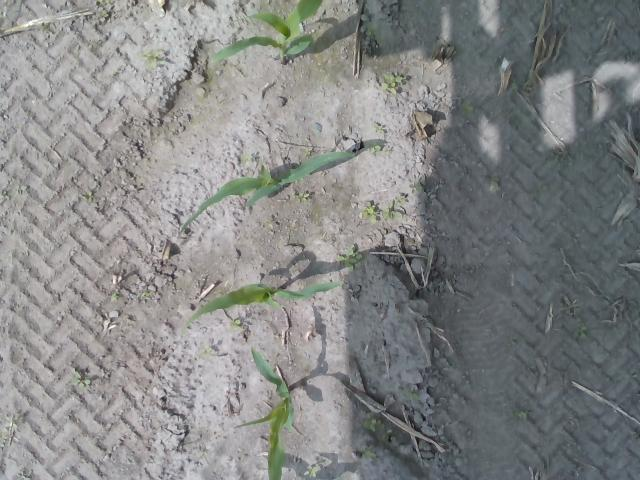Maize: (180, 149, 354, 232), (234, 348, 296, 480), (184, 281, 340, 326), (212, 1, 321, 65)
Weeds: (362, 199, 403, 224), (336, 244, 364, 272), (380, 72, 408, 94), (70, 369, 92, 390), (144, 49, 165, 70), (302, 464, 322, 478), (362, 415, 377, 432), (359, 447, 378, 460), (292, 190, 310, 203), (200, 343, 212, 357), (576, 325, 588, 338), (367, 25, 378, 38), (368, 144, 382, 154), (243, 155, 254, 166), (230, 319, 241, 329), (110, 292, 121, 300), (303, 147, 312, 156), (98, 0, 112, 4)
